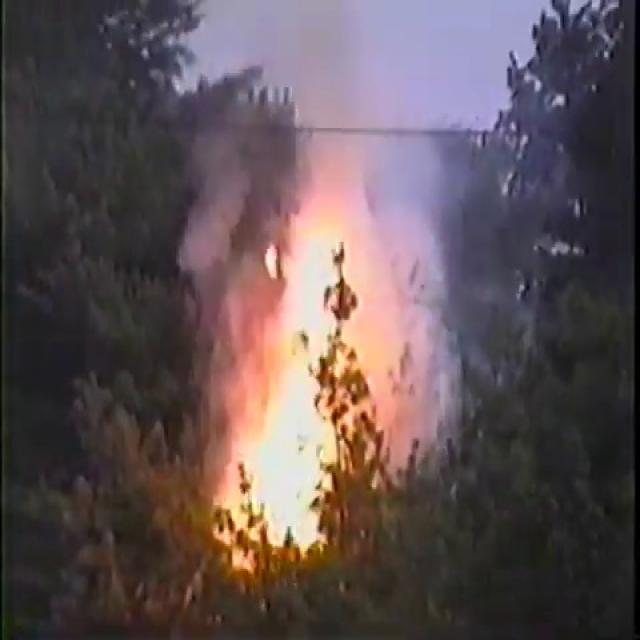Fire: (212, 184, 408, 570)
